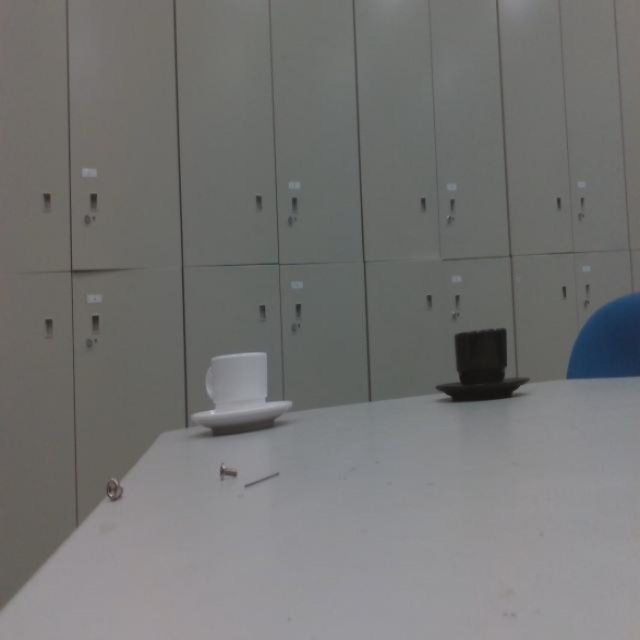black: (435, 323, 530, 403)
white: (188, 348, 296, 439)
